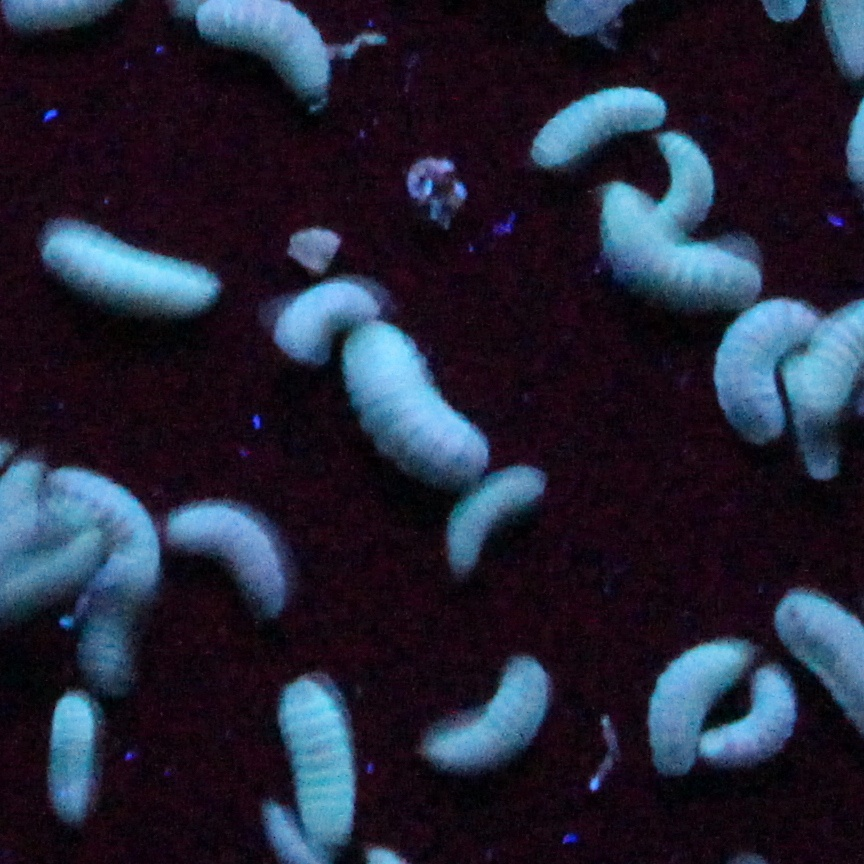larve: (339, 336, 485, 470), (593, 190, 765, 302), (425, 653, 556, 773), (59, 225, 205, 325), (645, 636, 747, 779), (202, 2, 347, 99), (159, 508, 282, 610), (719, 302, 802, 442), (530, 88, 670, 165), (282, 682, 347, 845), (447, 468, 547, 573), (701, 670, 801, 768), (96, 539, 150, 688), (44, 699, 103, 829), (262, 288, 382, 345)
